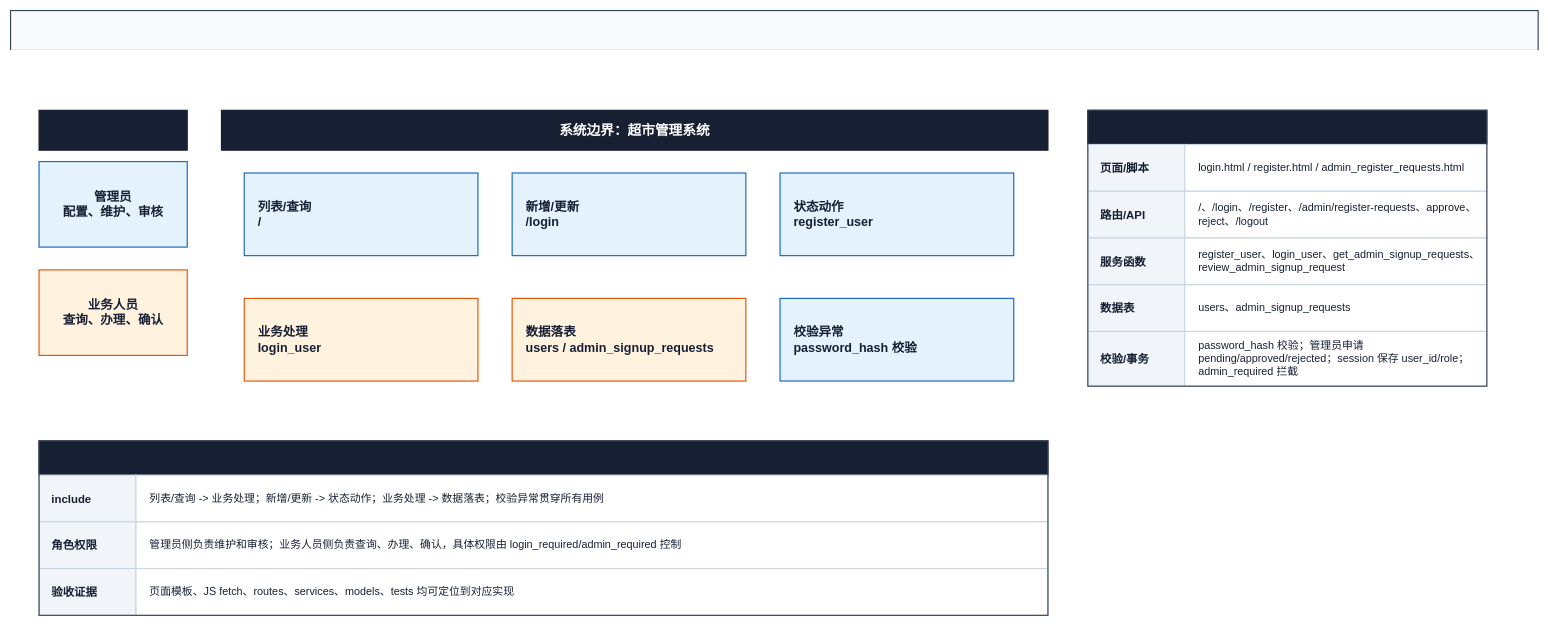
The diagram is 1548 pixels wide and 625 high, and some of its shapes have lost their labels. The centre of each missing label's shape, as x and y in pixels:
实现明细: the point at 1287,127
模块级用例矩阵｜角色｜用例｜实现入口｜校验点: the point at 774,62
用例依赖: the point at 543,457
角色: the point at 113,129
账号认证用例图: the point at 774,30
